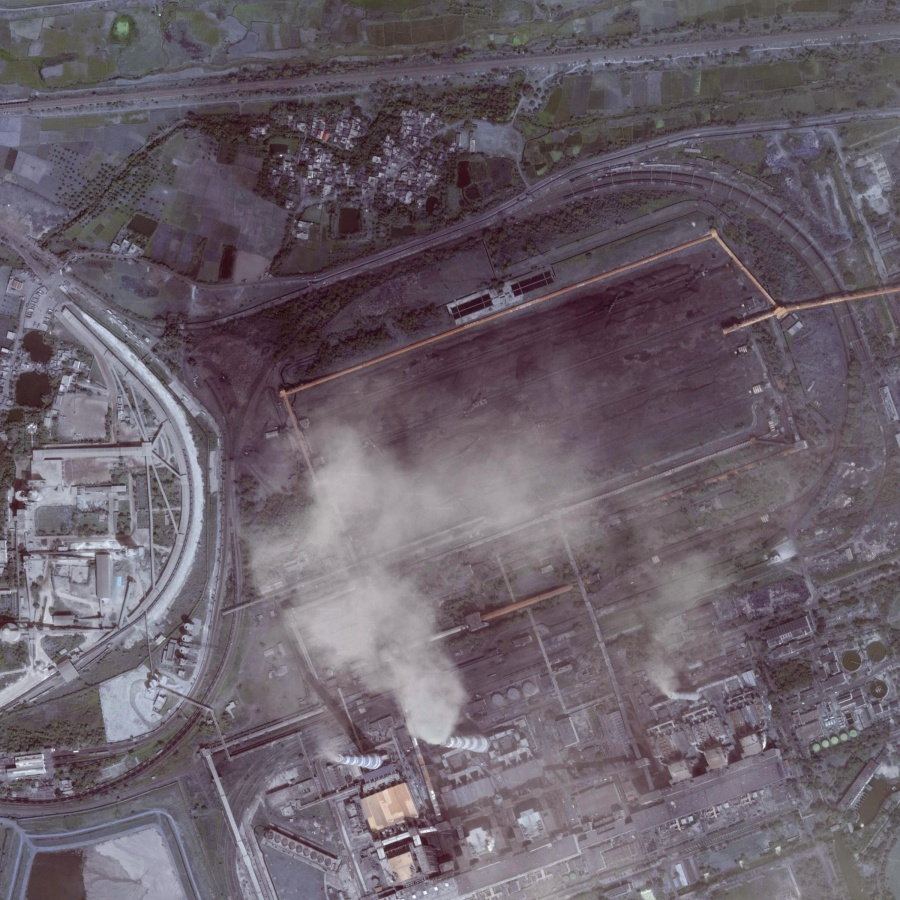PowerPlant: (230, 243, 811, 638)
